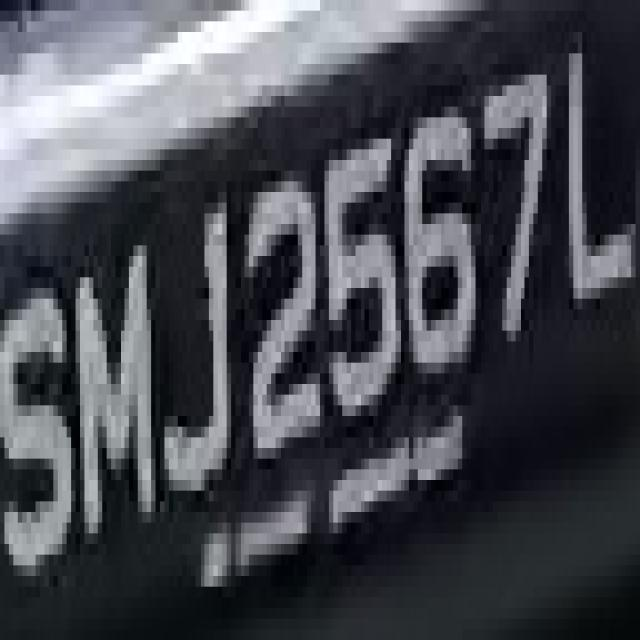2: (218, 150, 338, 470)
5: (311, 149, 405, 427)
6: (386, 96, 484, 395)
7: (476, 32, 546, 405)
J: (156, 170, 244, 490)
L: (556, 32, 636, 341)
M: (62, 224, 160, 533)
S: (13, 224, 80, 587)
